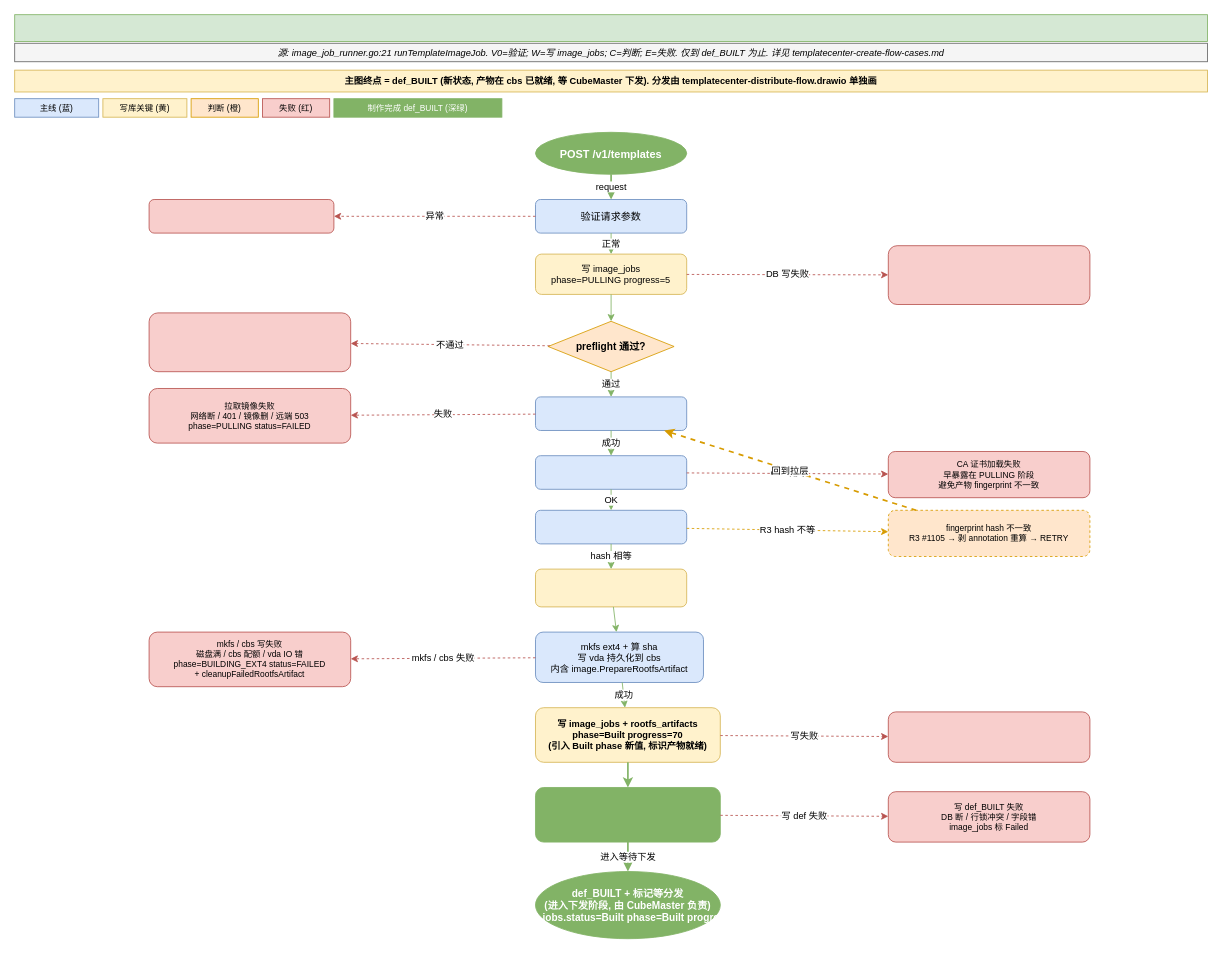
Some shapes in this 1222 by 953 pixel diagram are drawn without their labels. Each missing label, with the box of its shape:
preflight 不通过 CA 过期 / 节点不可达 / 实例类型不支持 phase=PULLING status=FAILED: (148, 312, 351, 372)
W3 写库失败 状态写不到 image_jobs 悬挂态 → reconciler 兜底: (887, 711, 1090, 762)
从镜像仓库拉层: (535, 396, 687, 430)
写 image_jobs phase=UNPACKING progress=20: (535, 568, 687, 607)
写 template_definitions status=BUILT (新状态) (用 BUILT 标识产物已就绪, 未分发): (535, 787, 720, 842)
加载 Egress CA 证书: (535, 455, 687, 489)
参数校验失败 直接返回,不写 image_jobs: (148, 199, 334, 233)
第一次写库失败 DB 切换 / 锁冲突 / 磁盘满 log + return → 悬挂态 reconciler 兜底: (887, 245, 1090, 304)
算 fingerprint + artifact_id: (535, 509, 687, 544)
镜像中心 — 模板中心制作主图 (制作完成 → def_BUILT 等 CubeMaster 下发): (14, 14, 1208, 42)
